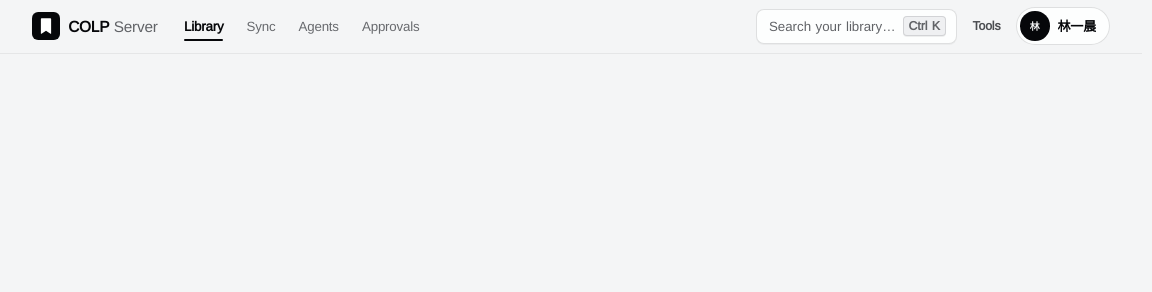
Test case: TopNav session chrome › names the account by its sign-in username when the server sends one
This screenshot has width=1152, height=292.
Click the button with test id "account-trigger" at (1063, 26), box [1016,7,1110,46]
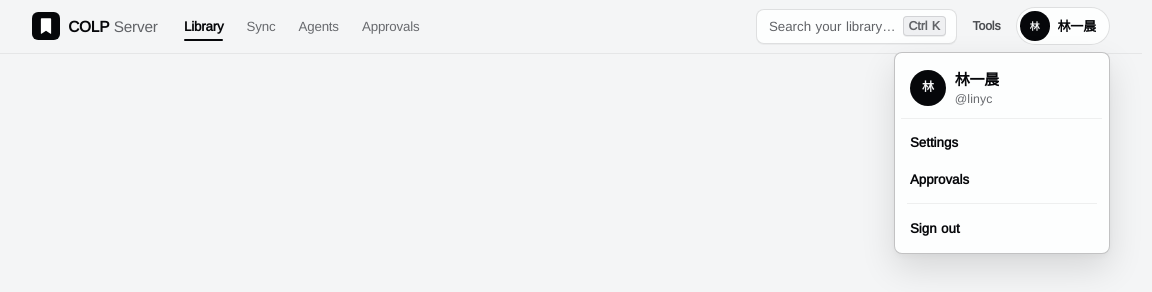
Result: the navigation bar with id "account-dropdown" shows "@linyc" at [955,91,992,106]
